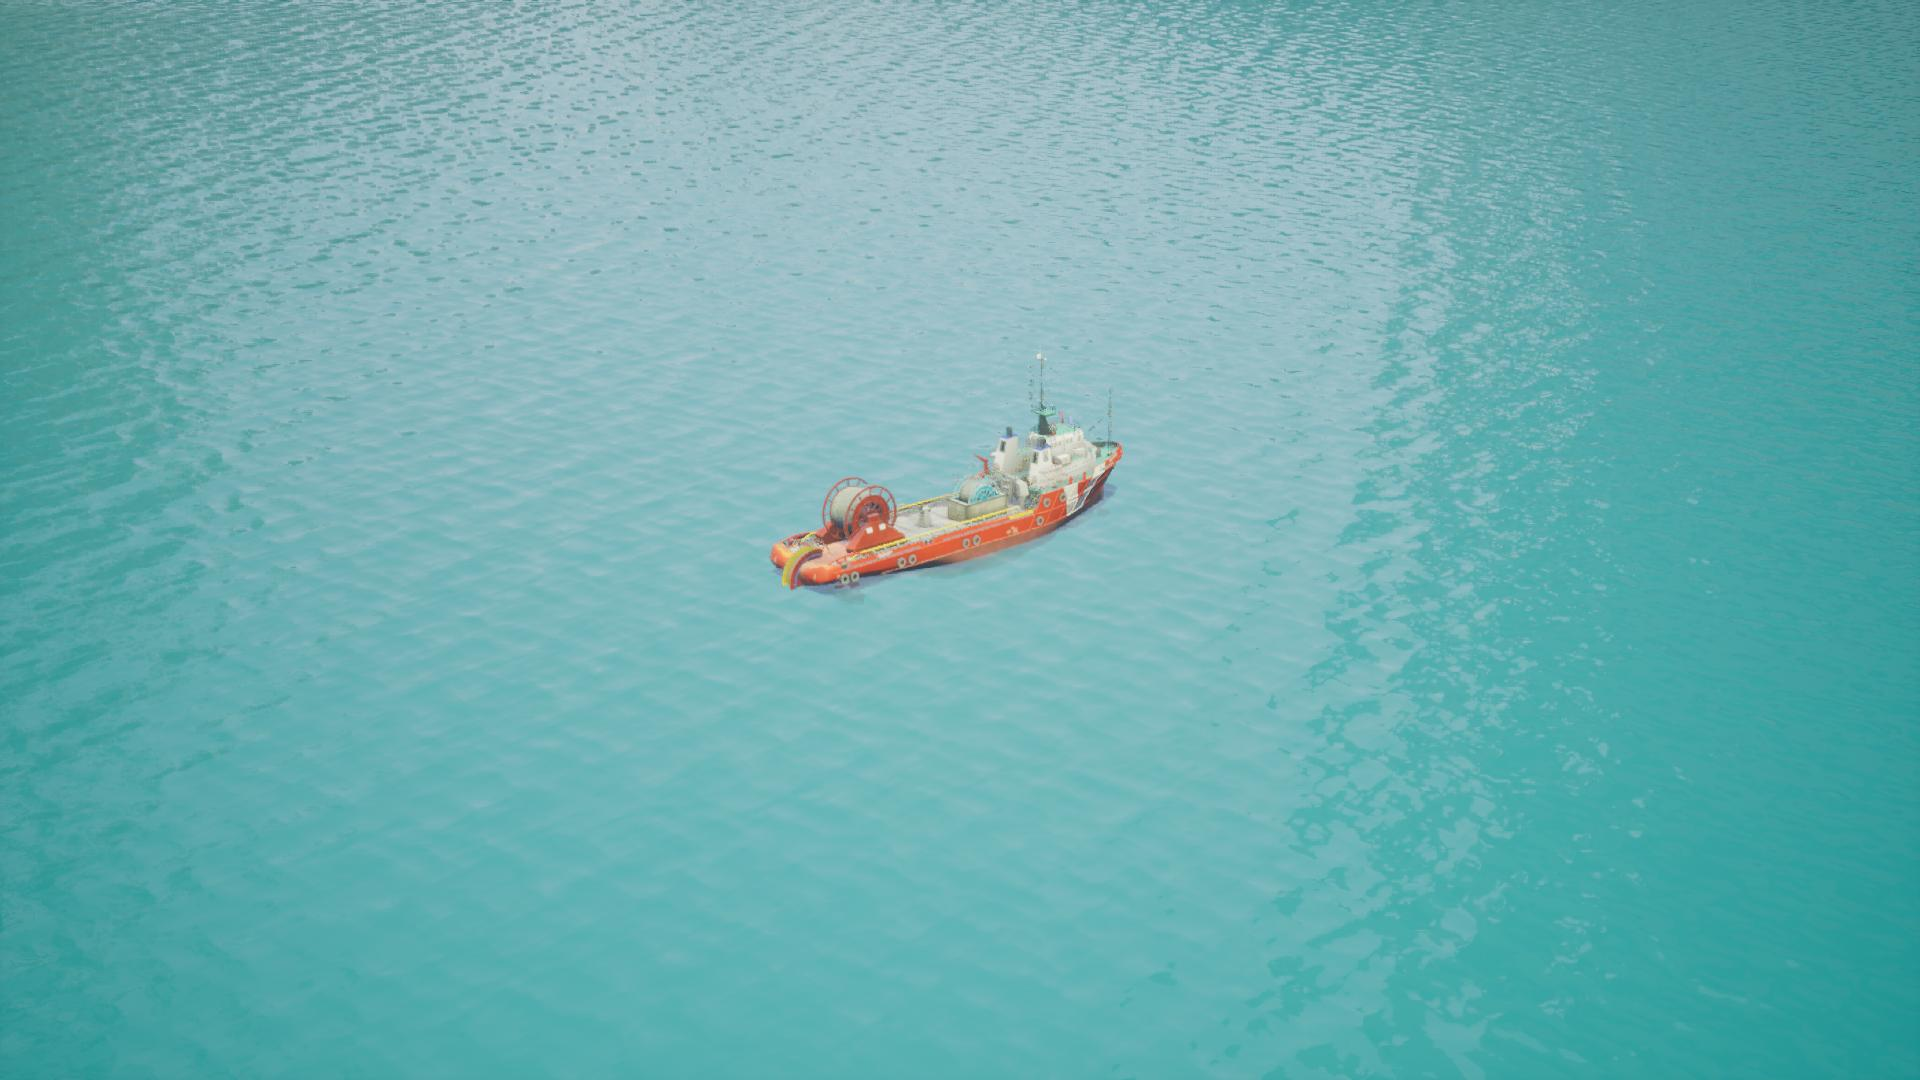Tug Boat: (769, 418, 1118, 589)
